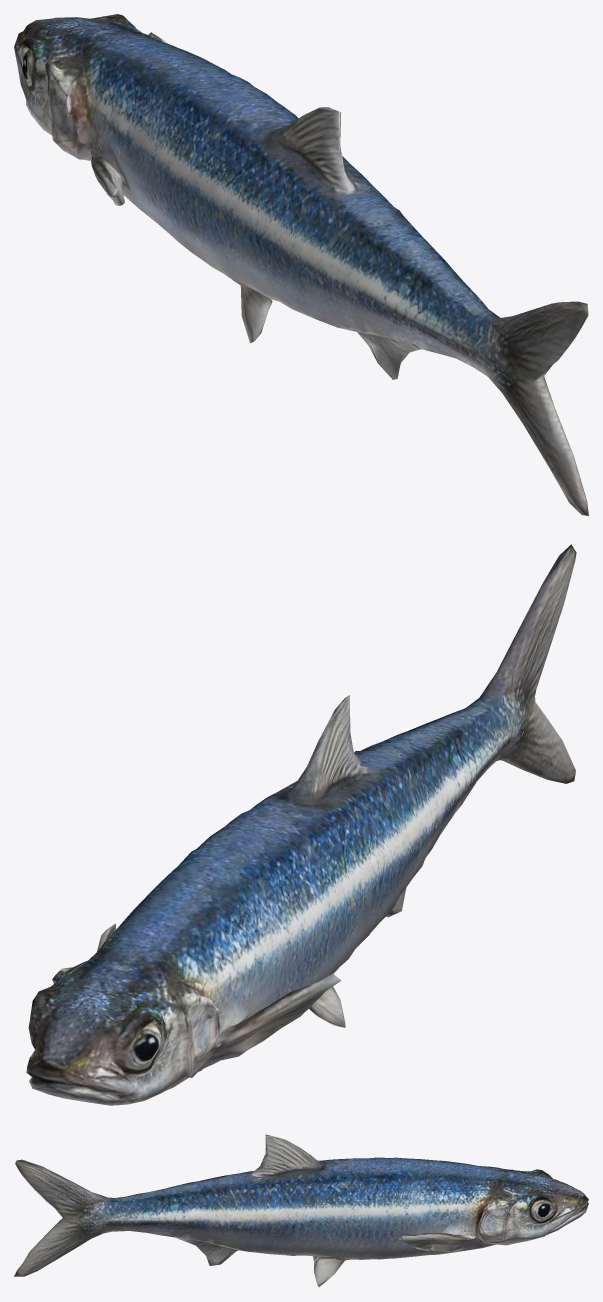
File: anchovy.glb
The picture shows the model from 3 angles, top to bottom: view 1: azimuth 30°, elevation 25°; view 2: azimuth 150°, elevation 25°; view 3: azimuth 270°, elevation 25°; orthographic projection. The views are drawn at different scales.
Visible parts, largest first — view 1: tripo_node_e4c50542-fbaa-44b9-b073-31e1aba3f8d7; view 2: tripo_node_e4c50542-fbaa-44b9-b073-31e1aba3f8d7; view 3: tripo_node_e4c50542-fbaa-44b9-b073-31e1aba3f8d7.
Part boxes in pixels (<box>): tripo_node_e4c50542-fbaa-44b9-b073-31e1aba3f8d7: <box>14,14,588,515</box>; tripo_node_e4c50542-fbaa-44b9-b073-31e1aba3f8d7: <box>26,544,576,1105</box>; tripo_node_e4c50542-fbaa-44b9-b073-31e1aba3f8d7: <box>14,1134,588,1287</box>.
Bounding box in the file's own units: 0.2296 × 0.2744 × 1.
1 material, 1 textured.
